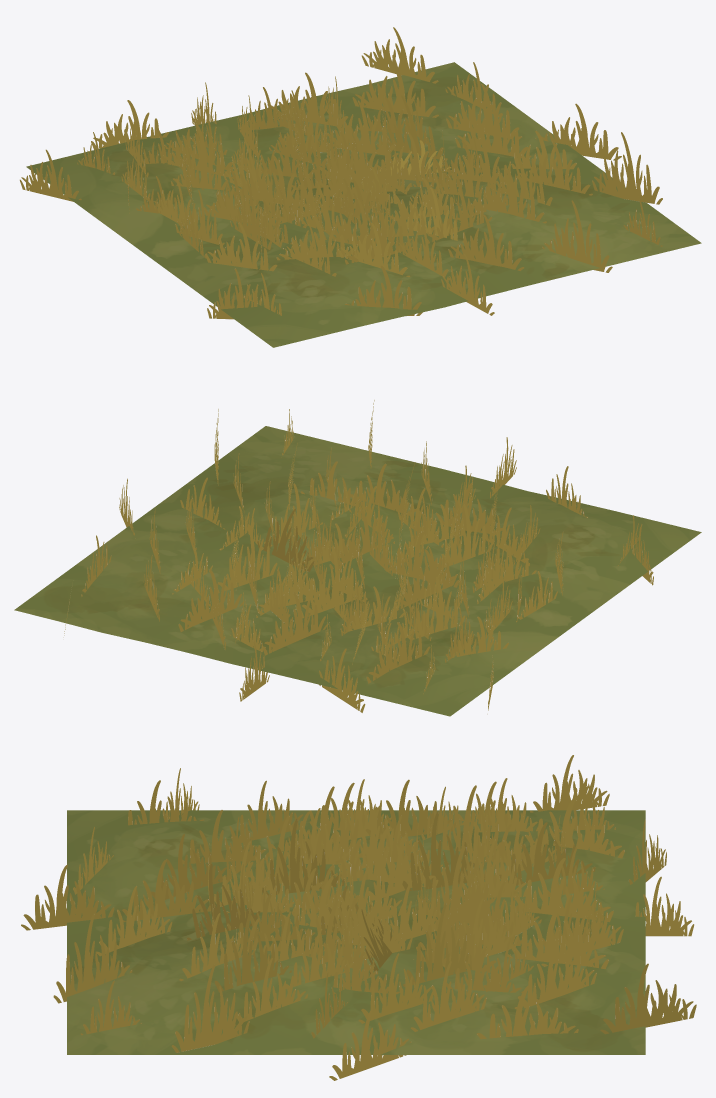
Rendered from FieldTile2.fbx.
3 renders of one model, top to bottom at view 1: azimuth 30°, elevation 25°; view 2: azimuth 150°, elevation 25°; view 3: azimuth 270°, elevation 25°, orthographic. The views are drawn at different scales.
Visible parts, largest first — view 1: FieldTile2; view 2: FieldTile2; view 3: FieldTile2.
Part boxes in pixels (x1=…): FieldTile2: x1=19, y1=27, x2=701, y2=347; FieldTile2: x1=14, y1=400, x2=701, y2=716; FieldTile2: x1=21, y1=755, x2=696, y2=1080.
Size of the model in its own units: 114 by 20.36 by 119.
